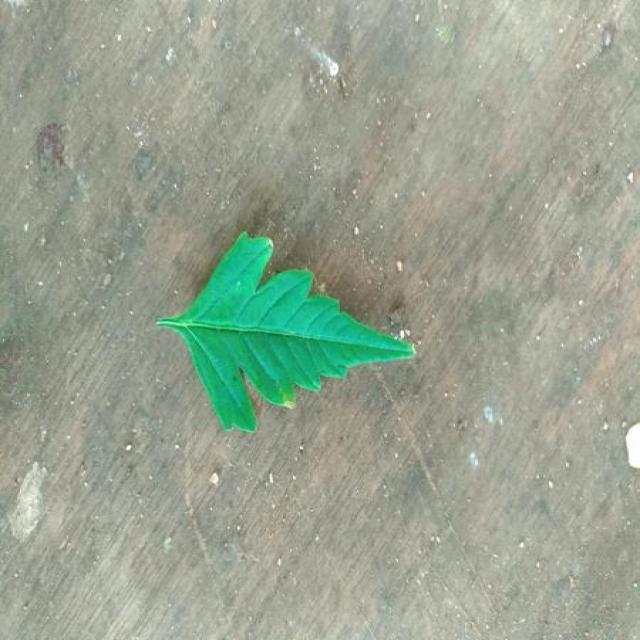balloon_Vine: (158, 232, 415, 432)
